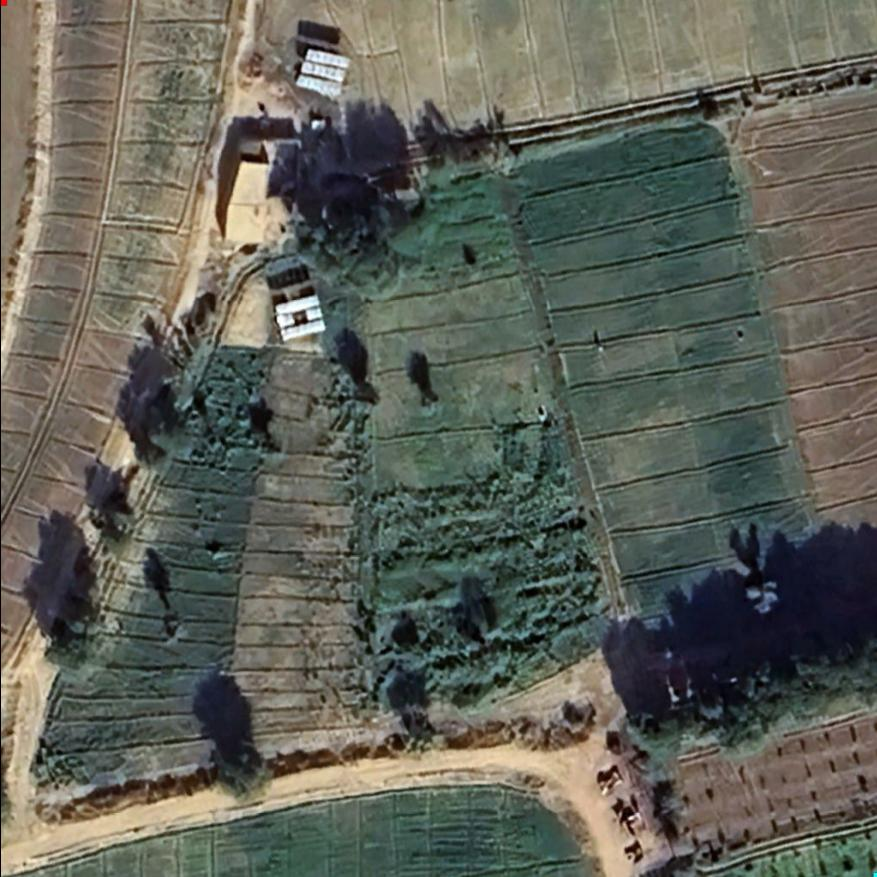Solarpanel: (289, 39, 356, 100), (270, 292, 330, 346)
